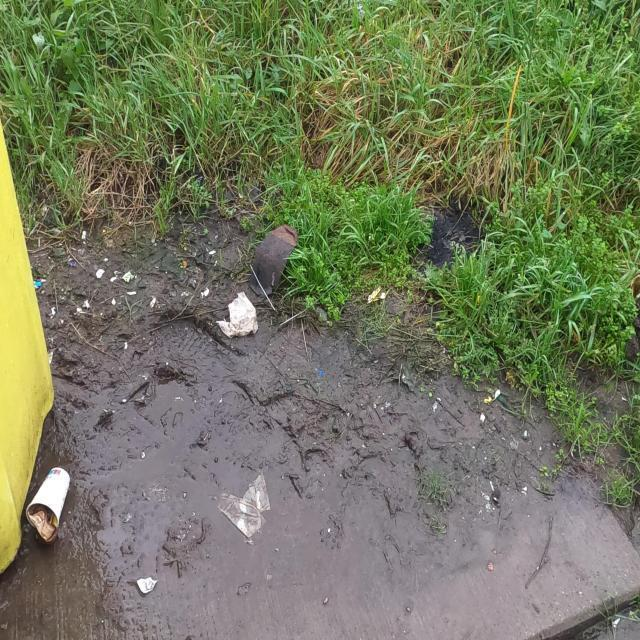Cup: (26, 466, 72, 544)
Paper: (216, 470, 272, 538), (214, 290, 260, 340)
